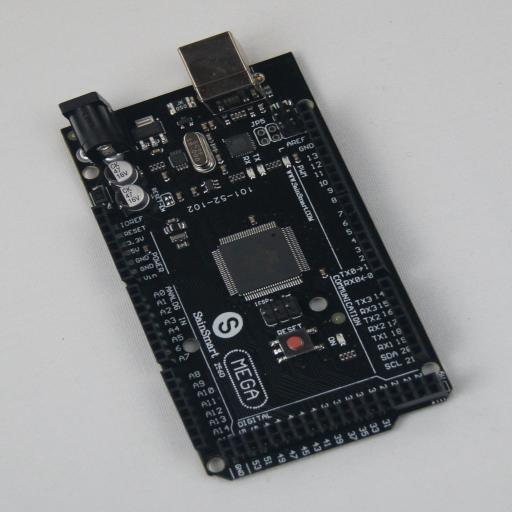Arduino Mega 2560 -Black-: (59, 31, 452, 481)
